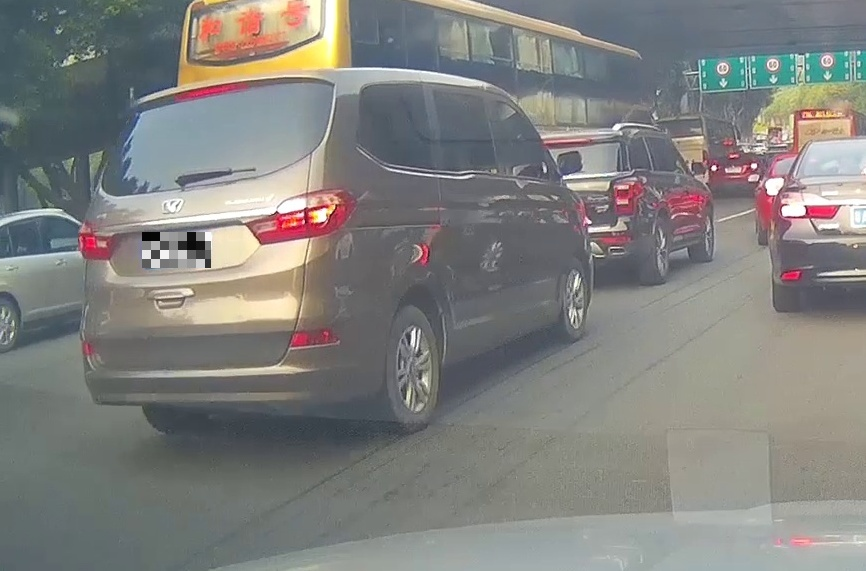L_light: (77, 221, 119, 262), (710, 164, 718, 172)
R_light: (239, 187, 359, 246), (750, 162, 758, 171)
T_light: (173, 81, 250, 103), (728, 153, 740, 159)
day-brake: (710, 151, 760, 195)
day-right: (73, 67, 368, 434)
plate_1: (142, 232, 211, 268)
